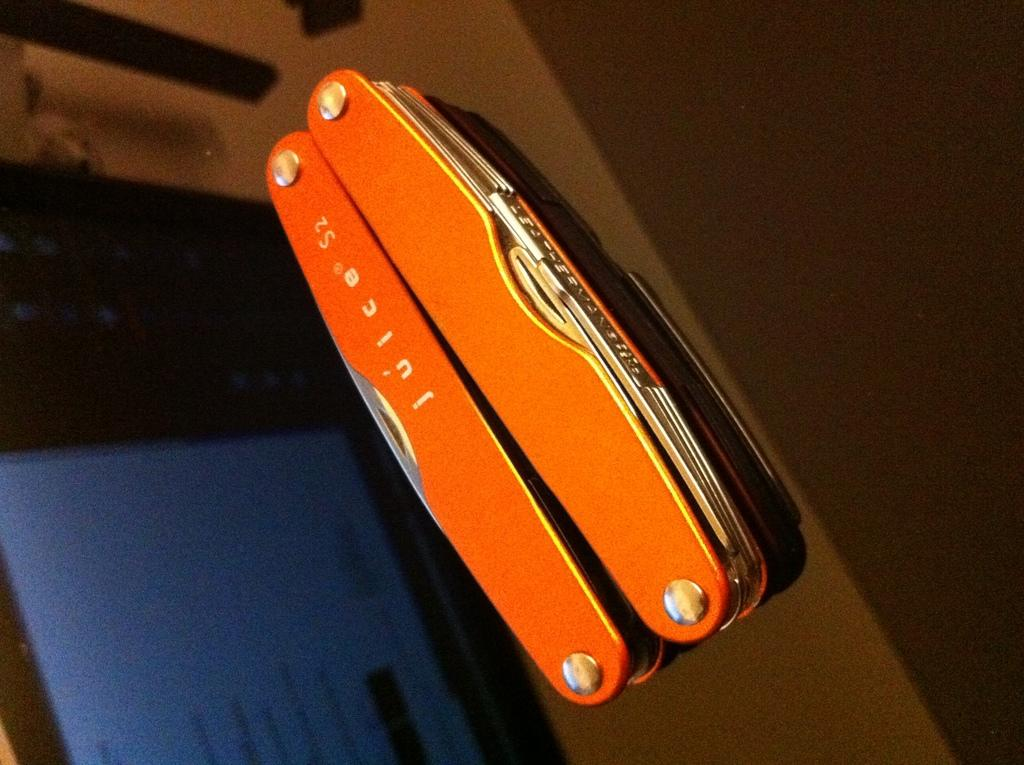Knife: (307, 60, 776, 650), (253, 125, 673, 721)
